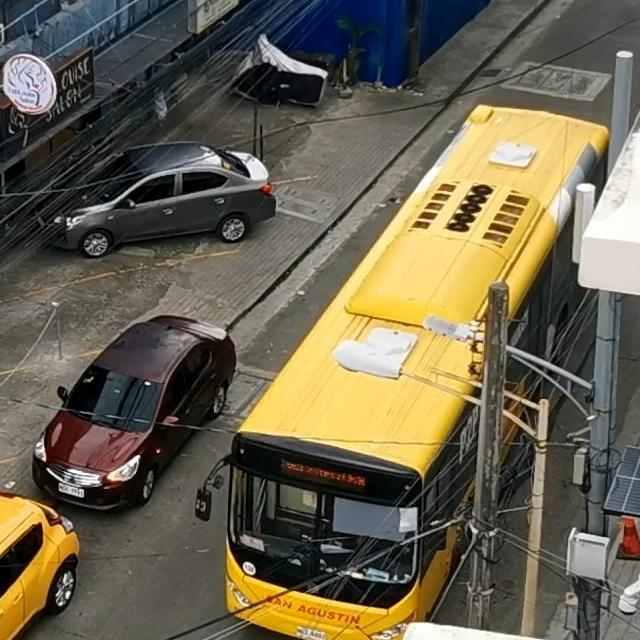Car: (18, 296, 258, 530), (8, 129, 288, 279), (0, 467, 121, 640)
